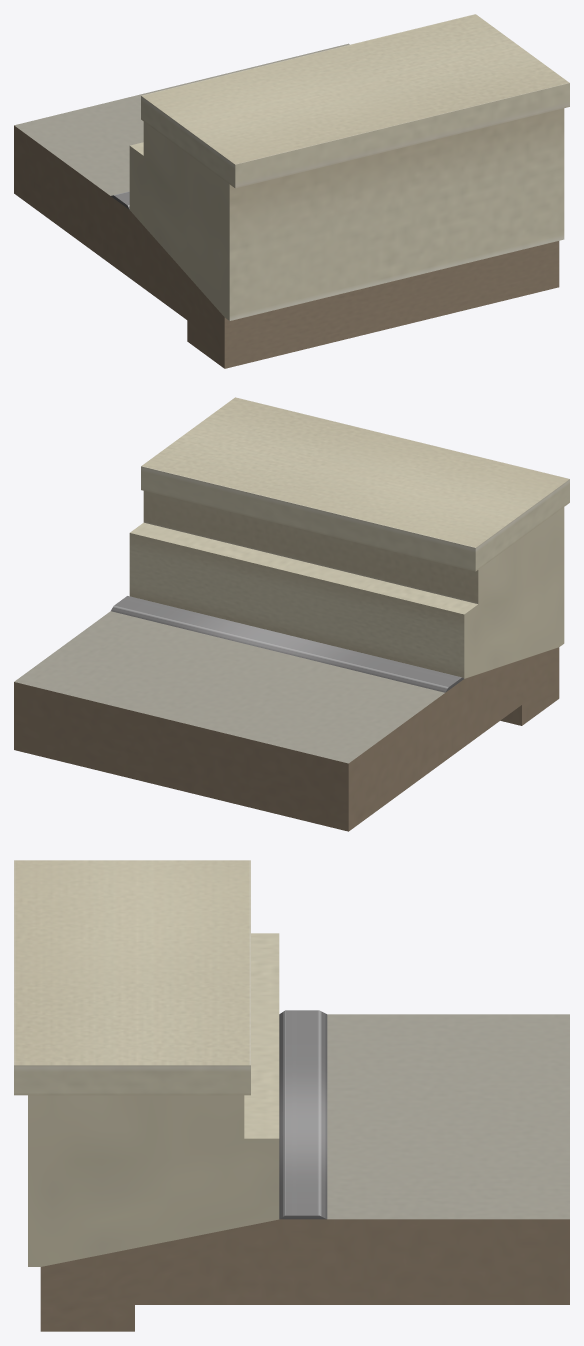
Rendered from set_roof_outside_a02.fbx.
The picture shows the model from 3 angles, top to bottom: view 1: azimuth 30°, elevation 25°; view 2: azimuth 150°, elevation 25°; view 3: azimuth 270°, elevation 25°; orthographic projection. The views are drawn at different scales.
Parts seen in each view (by area): view 1: set_roof_outside_a02; view 2: set_roof_outside_a02; view 3: set_roof_outside_a02.
Boxes of the visible parts, left/top/right/bottom form: set_roof_outside_a02: left=14, top=14, right=569, bottom=368; set_roof_outside_a02: left=14, top=397, right=569, bottom=831; set_roof_outside_a02: left=14, top=860, right=569, bottom=1331.
Bounding box in the file's own units: 200 × 121 × 229.
